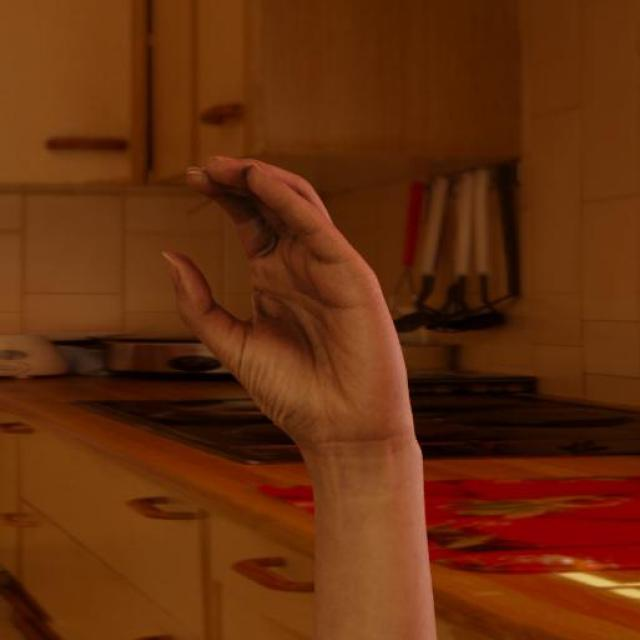C: (112, 126, 430, 482)
